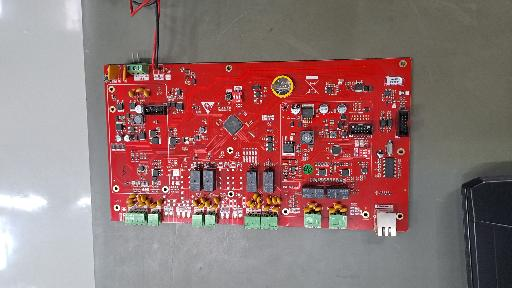var: (107, 65, 119, 80), (123, 65, 127, 82), (136, 87, 146, 93), (272, 205, 280, 212), (128, 193, 137, 199), (328, 207, 337, 213), (145, 198, 150, 208), (304, 206, 311, 213), (128, 90, 135, 97), (143, 90, 150, 97), (141, 195, 147, 203), (256, 201, 262, 209), (256, 195, 262, 203), (247, 199, 253, 207), (339, 207, 347, 213), (205, 200, 211, 208), (214, 196, 220, 204), (266, 195, 271, 204), (127, 202, 136, 207), (263, 205, 270, 211), (150, 202, 157, 208), (200, 196, 206, 203), (137, 195, 142, 203), (138, 203, 146, 208), (272, 195, 276, 205), (250, 202, 255, 210), (334, 203, 342, 208), (276, 196, 281, 204), (308, 203, 316, 208), (314, 206, 322, 211), (193, 199, 198, 207), (125, 199, 134, 203), (198, 204, 205, 209), (253, 193, 258, 200), (211, 204, 218, 209), (157, 199, 162, 206)
